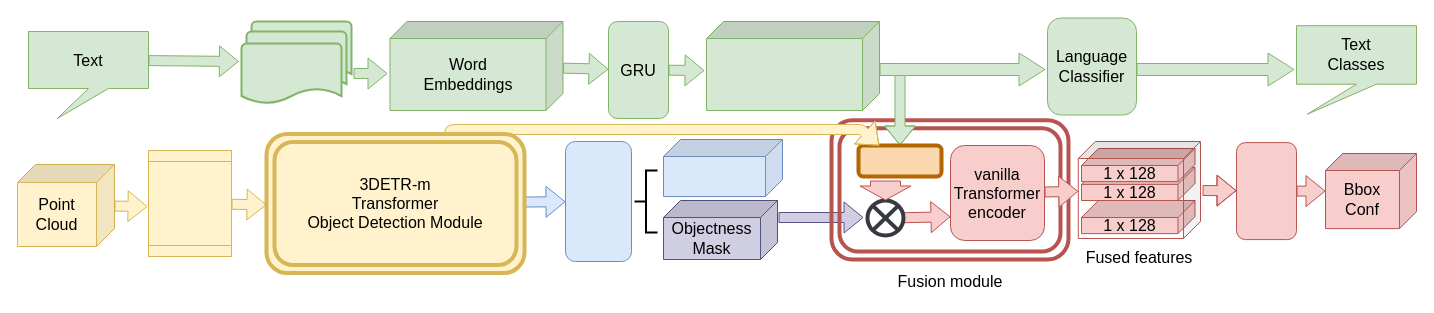
Some shapes in this 1434 by 313 pixel diagram are drawn without their labels. The shapes that lost their labels are listed below. From the top down, each one's centre as x and y in pixels, then its label:
point 291,73: GloVE
point 793,65: Language Features
point 722,167: Bbox Proposals
point 899,160: Concat
point 190,203: PointNet++ Backbone
point 598,201: Proposal Module
point 1266,191: Loc. Module
